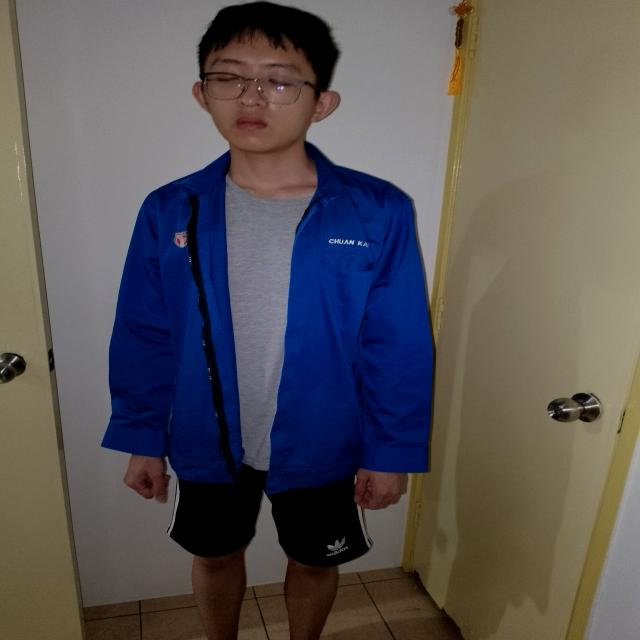person_with_labcoat: (102, 2, 433, 640)
